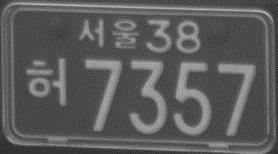3: (128, 58, 168, 134), (145, 18, 174, 52)
5: (171, 60, 214, 138)
7: (214, 61, 258, 139), (83, 56, 124, 134)
8: (176, 20, 201, 54)
서울_O: (78, 17, 140, 52)
허: (26, 56, 68, 109)
